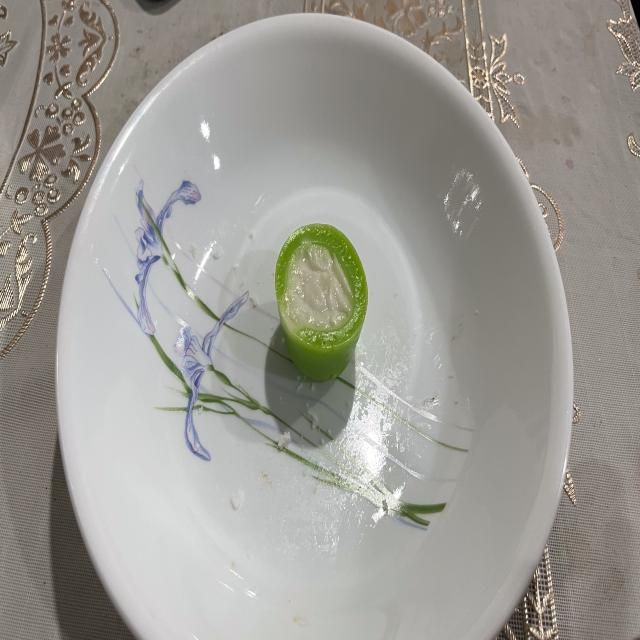nona-manis: (275, 224, 368, 380)
